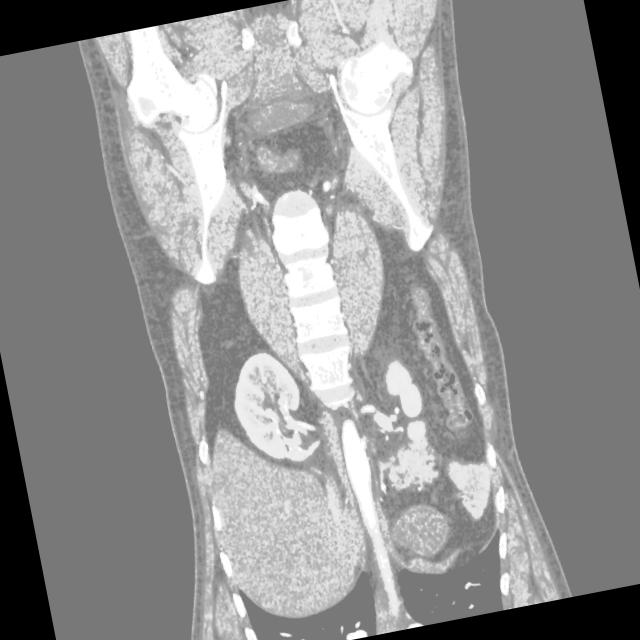NORMAL: (43, 12, 622, 627)
